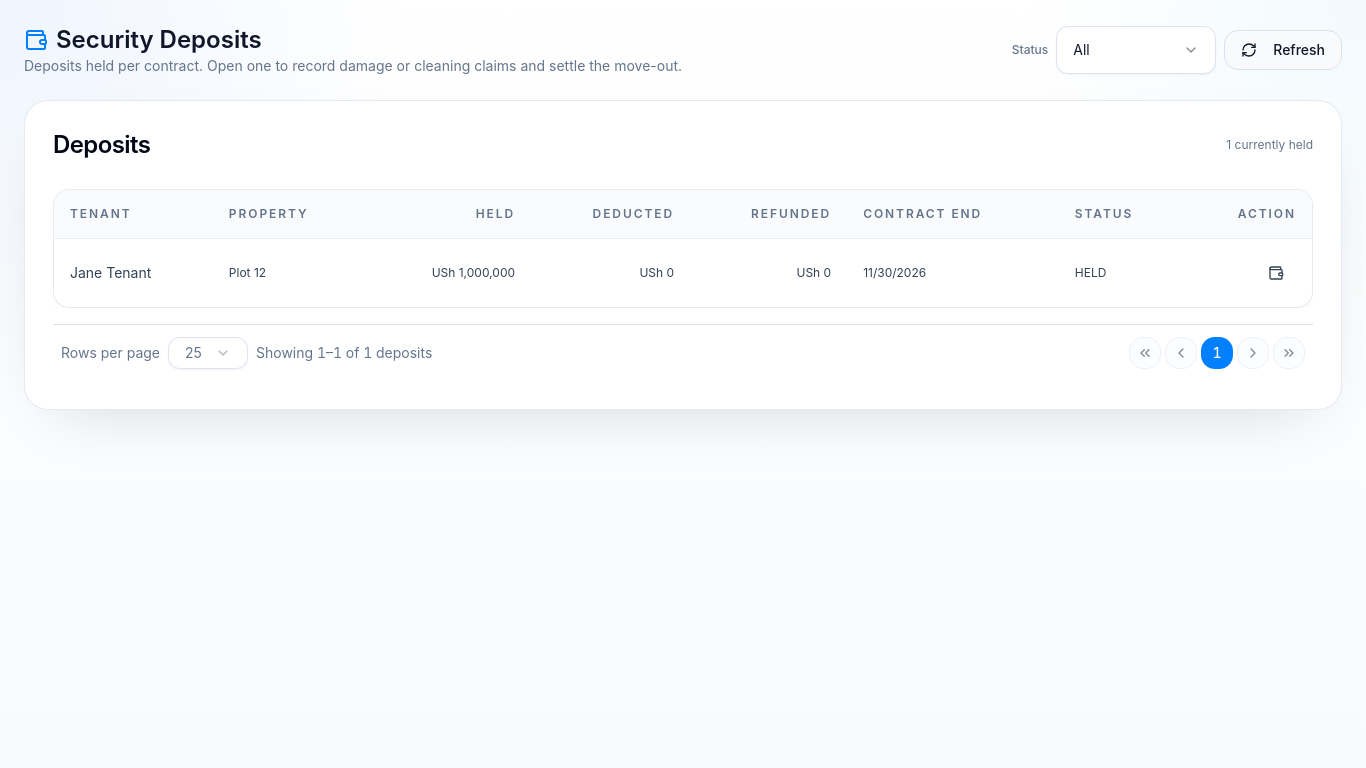
Scenario: lists held deposits and opens the move-out statement
The width and height of the screenshot is (1366, 768).
Expected: the text "Jane Tenant" is shown, [54,238,213,306]
Expected: the text "1 currently held" is shown, [1226,137,1313,153]
Click the button named "Open move-out statement for contract 300" at (1276, 272), box [1256,254,1296,290]
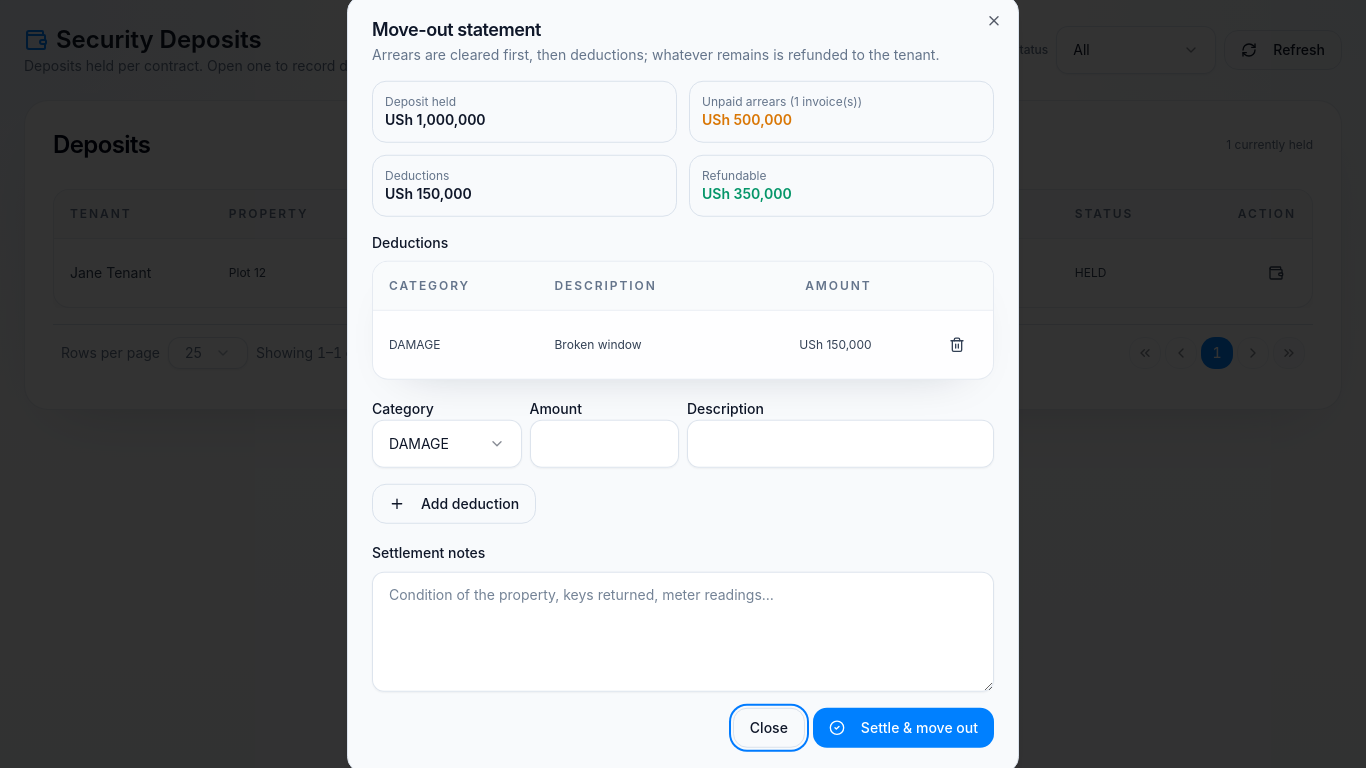
Result: the heading "Move-out statement" is shown at [372,19,541,40]
Result: the text "Broken window" is shown at [538,310,735,378]
